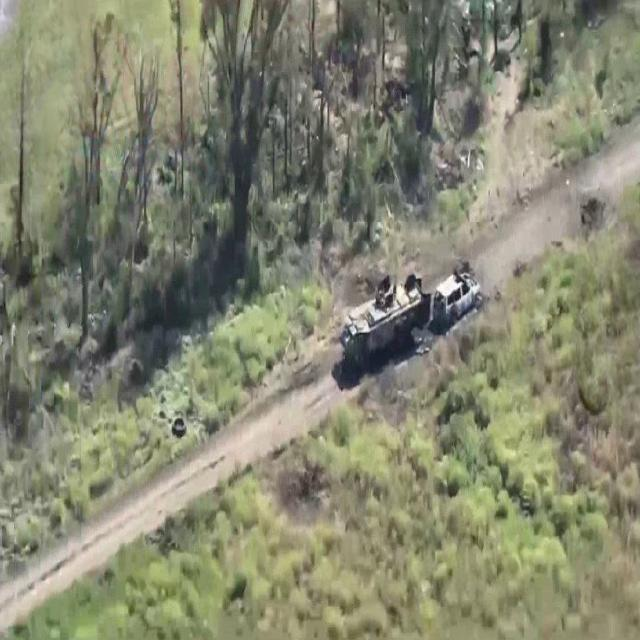APC: (340, 270, 432, 383)
Vehicle: (434, 265, 483, 339)
